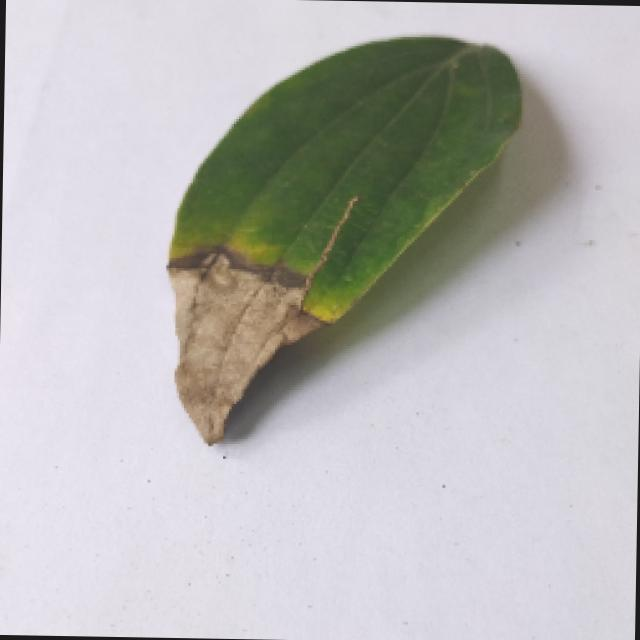footrot: (163, 25, 530, 454)
